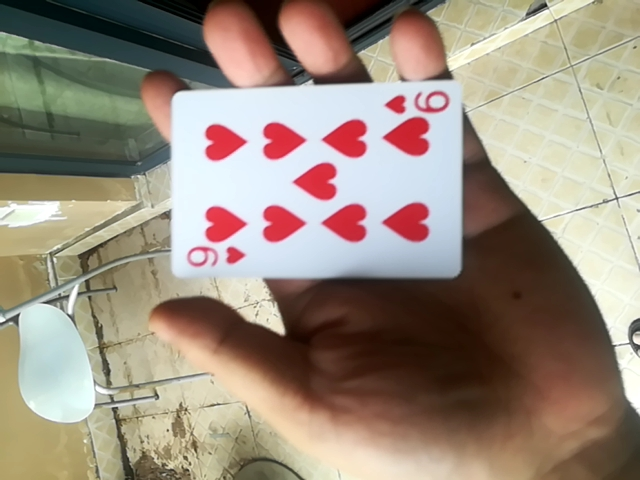hx 9: (165, 74, 463, 279)
